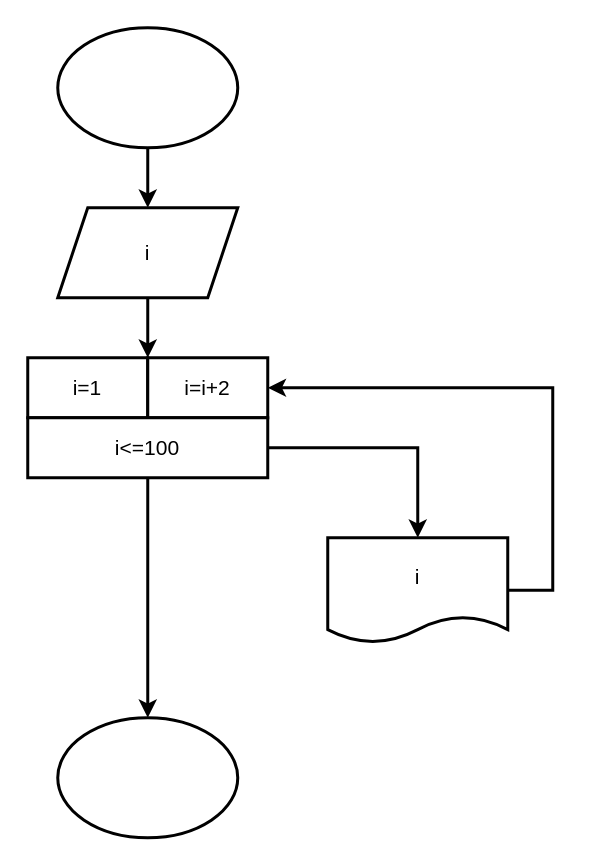
The diagram is 591 pixels wide and 864 high, and some of its shapes have lost their labels. Here are the shapes that lost their labels. From the top down, the centre of each, then its label:
pixel 147 87: START
pixel 147 777: STOP
